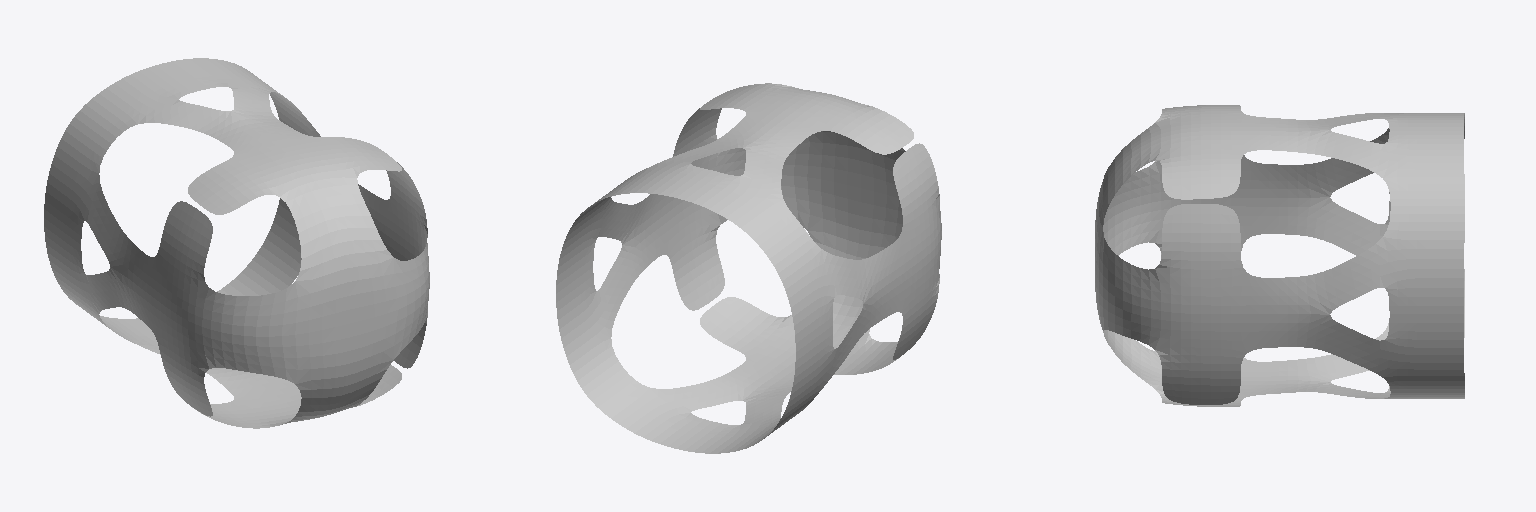
File: lampC-sub2.obj
The picture shows the model from 3 angles: view 1: azimuth 30°, elevation 25°; view 2: azimuth 150°, elevation 25°; view 3: azimuth 270°, elevation 25°; orthographic projection.
Visible parts, largest first — view 1: Plane_Plane.002; view 2: Plane_Plane.002; view 3: Plane_Plane.002.
Part boxes in pixels (x1,y1,x2,y2): Plane_Plane.002: (44,58,429,428); Plane_Plane.002: (556,83,941,453); Plane_Plane.002: (1095,105,1464,406).
Size of the model in its own units: 3.78 by 3.78 by 5.03.